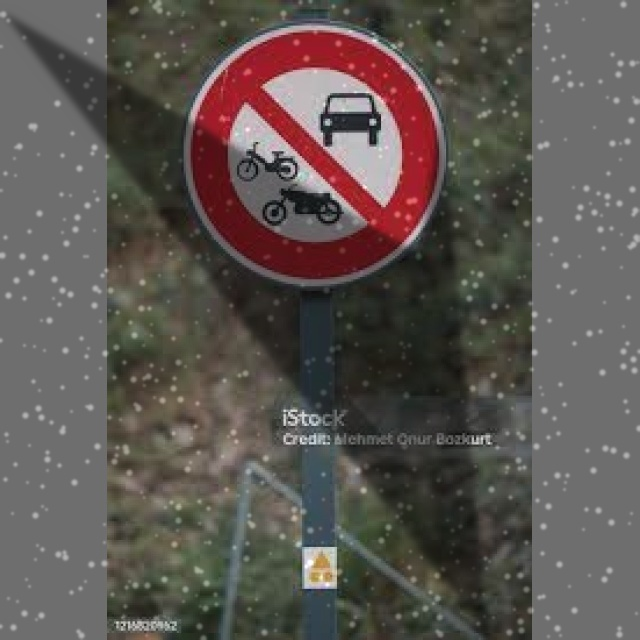All_Motor_Vehicles_Prohibited: (183, 20, 443, 285)
